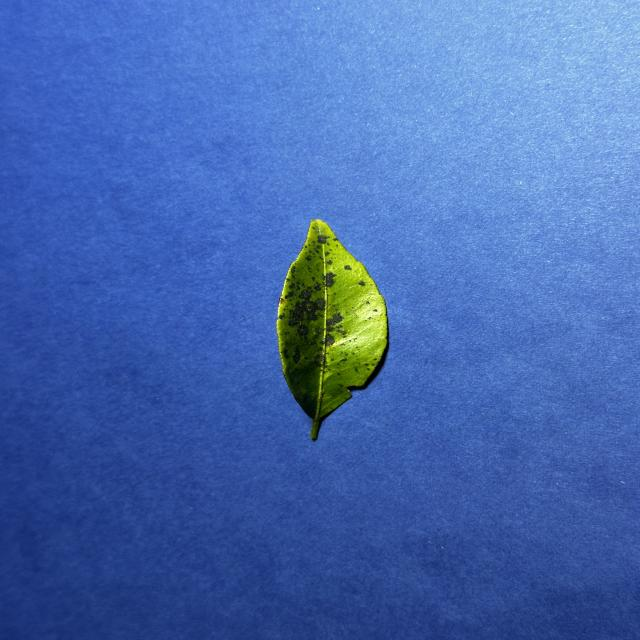sooty_mold: (277, 220, 387, 440)
